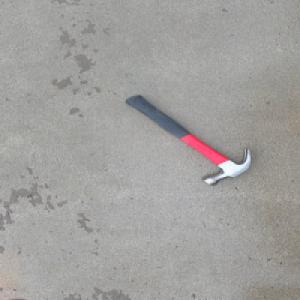Hammer: (122, 94, 253, 186)
